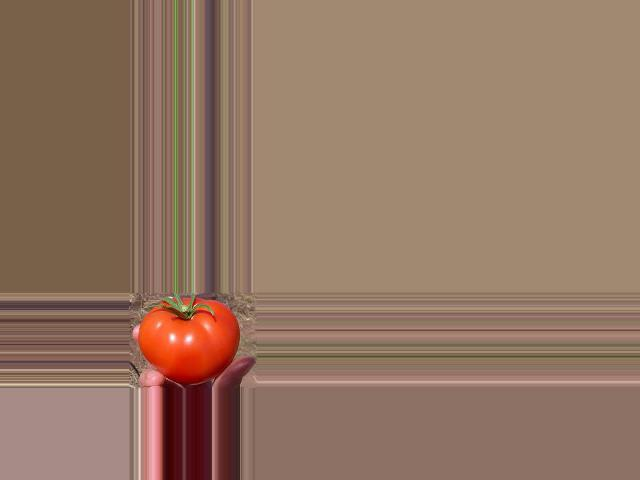tomato: (138, 298, 237, 384)
